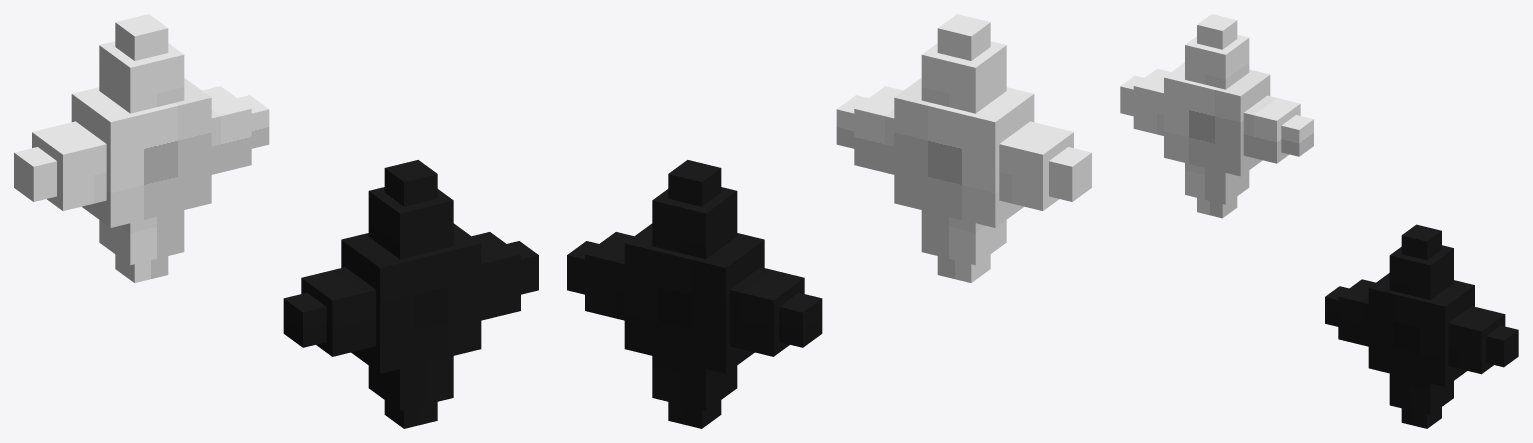
The model's file is light-and-dark-entry.glb.
3 renders of one model, left to right at view 1: azimuth 30°, elevation 25°; view 2: azimuth 150°, elevation 25°; view 3: azimuth 330°, elevation 25°, orthographic. The views are drawn at different scales.
Visible parts, largest first — view 1: cube (×10); view 2: cube (×10); view 3: cube (×10).
Part boxes in pixels (x1,y1,x2,y2): cube (×10): (14, 14, 538, 428); cube (×10): (567, 14, 1091, 428); cube (×10): (1120, 14, 1518, 428).
Size of the model in its own units: 0.9375 by 0.8125 by 0.125.
Materials: 1 (1 with a texture image).
